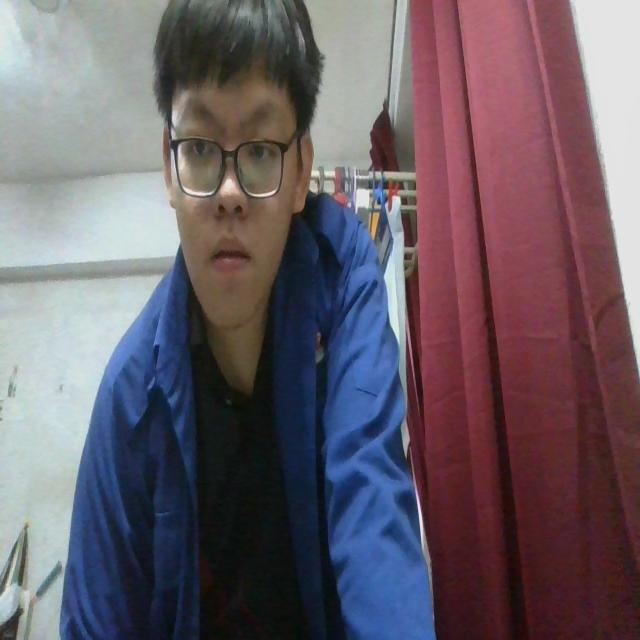person_with_labcoat: (60, 0, 433, 639)
